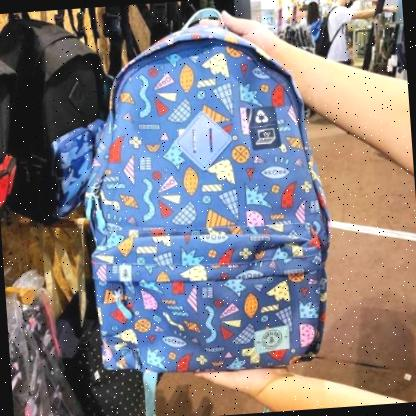bag: (58, 1, 341, 395)
